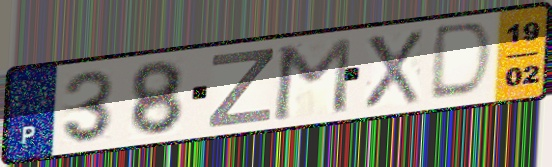3: (58, 66, 117, 145)
8: (126, 57, 187, 139)
D: (425, 19, 498, 103)
M: (269, 35, 355, 124)
X: (361, 28, 425, 111)
Z: (204, 46, 277, 131)
